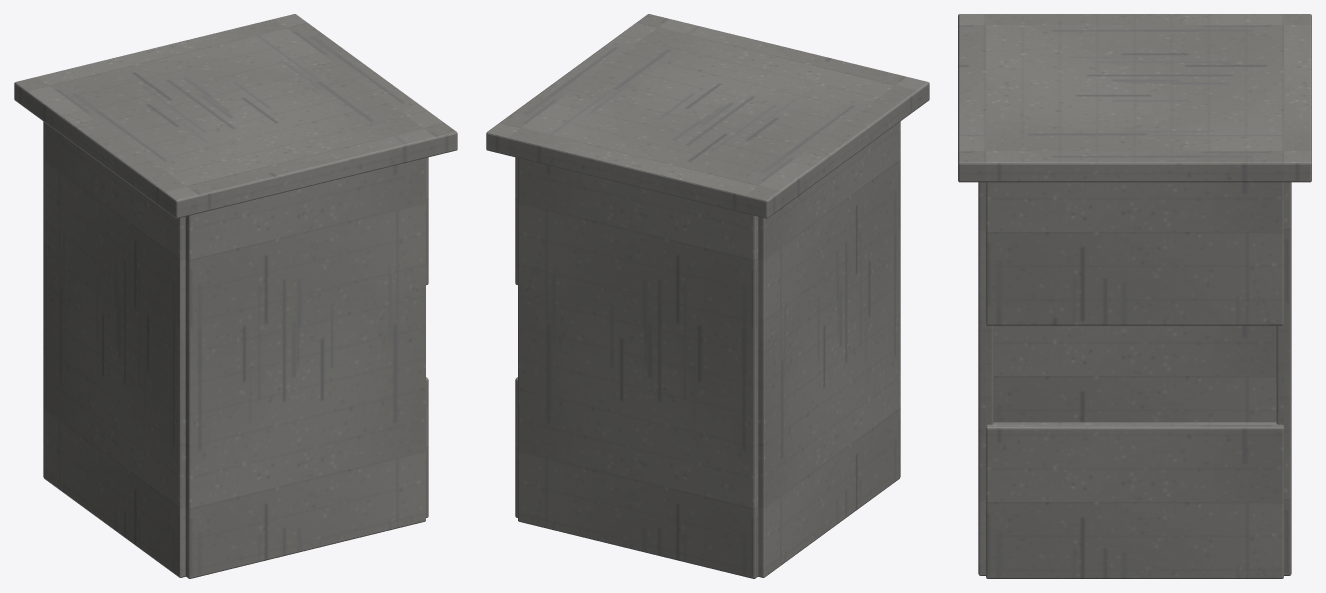
Rendered from checkpoint.glb.
3 views of the same model, side by side, from view 1: azimuth 30°, elevation 25°; view 2: azimuth 150°, elevation 25°; view 3: azimuth 270°, elevation 25° (orthographic). The views are drawn at different scales.
Parts seen in each view (by area): view 1: checkpoint; view 2: checkpoint; view 3: checkpoint.
Boxes of the visible parts, left/top/right/bottom form: checkpoint: left=14, top=14, right=457, bottom=578; checkpoint: left=486, top=14, right=929, bottom=578; checkpoint: left=958, top=14, right=1311, bottom=578.
Bounding box in the file's own units: 1.9 × 2.52 × 1.9.
1 material, 1 textured.
